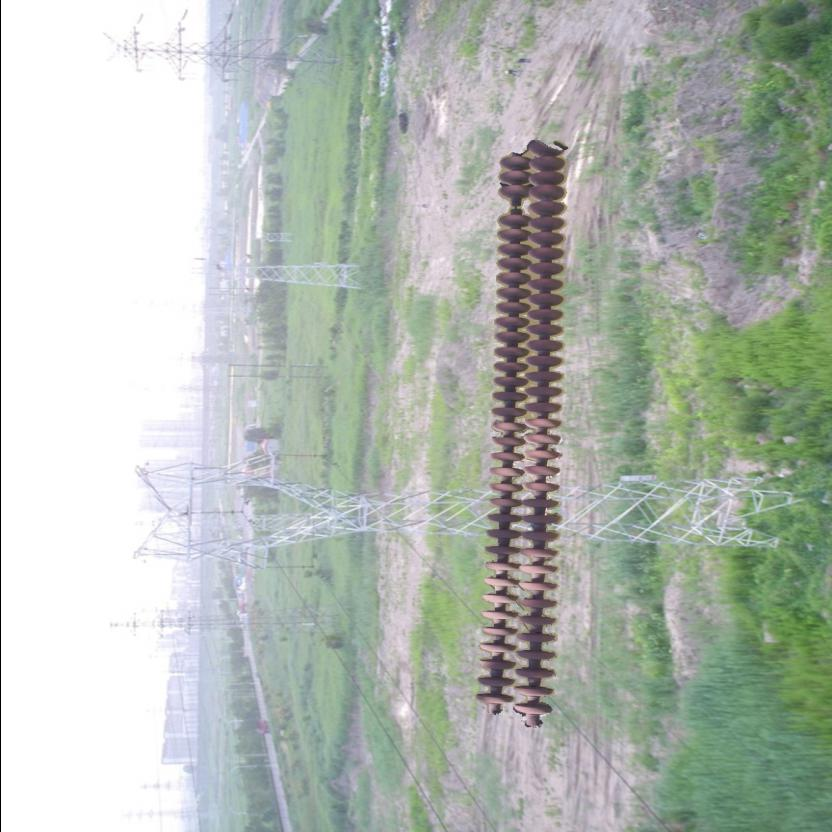defect: (494, 181, 528, 228)
